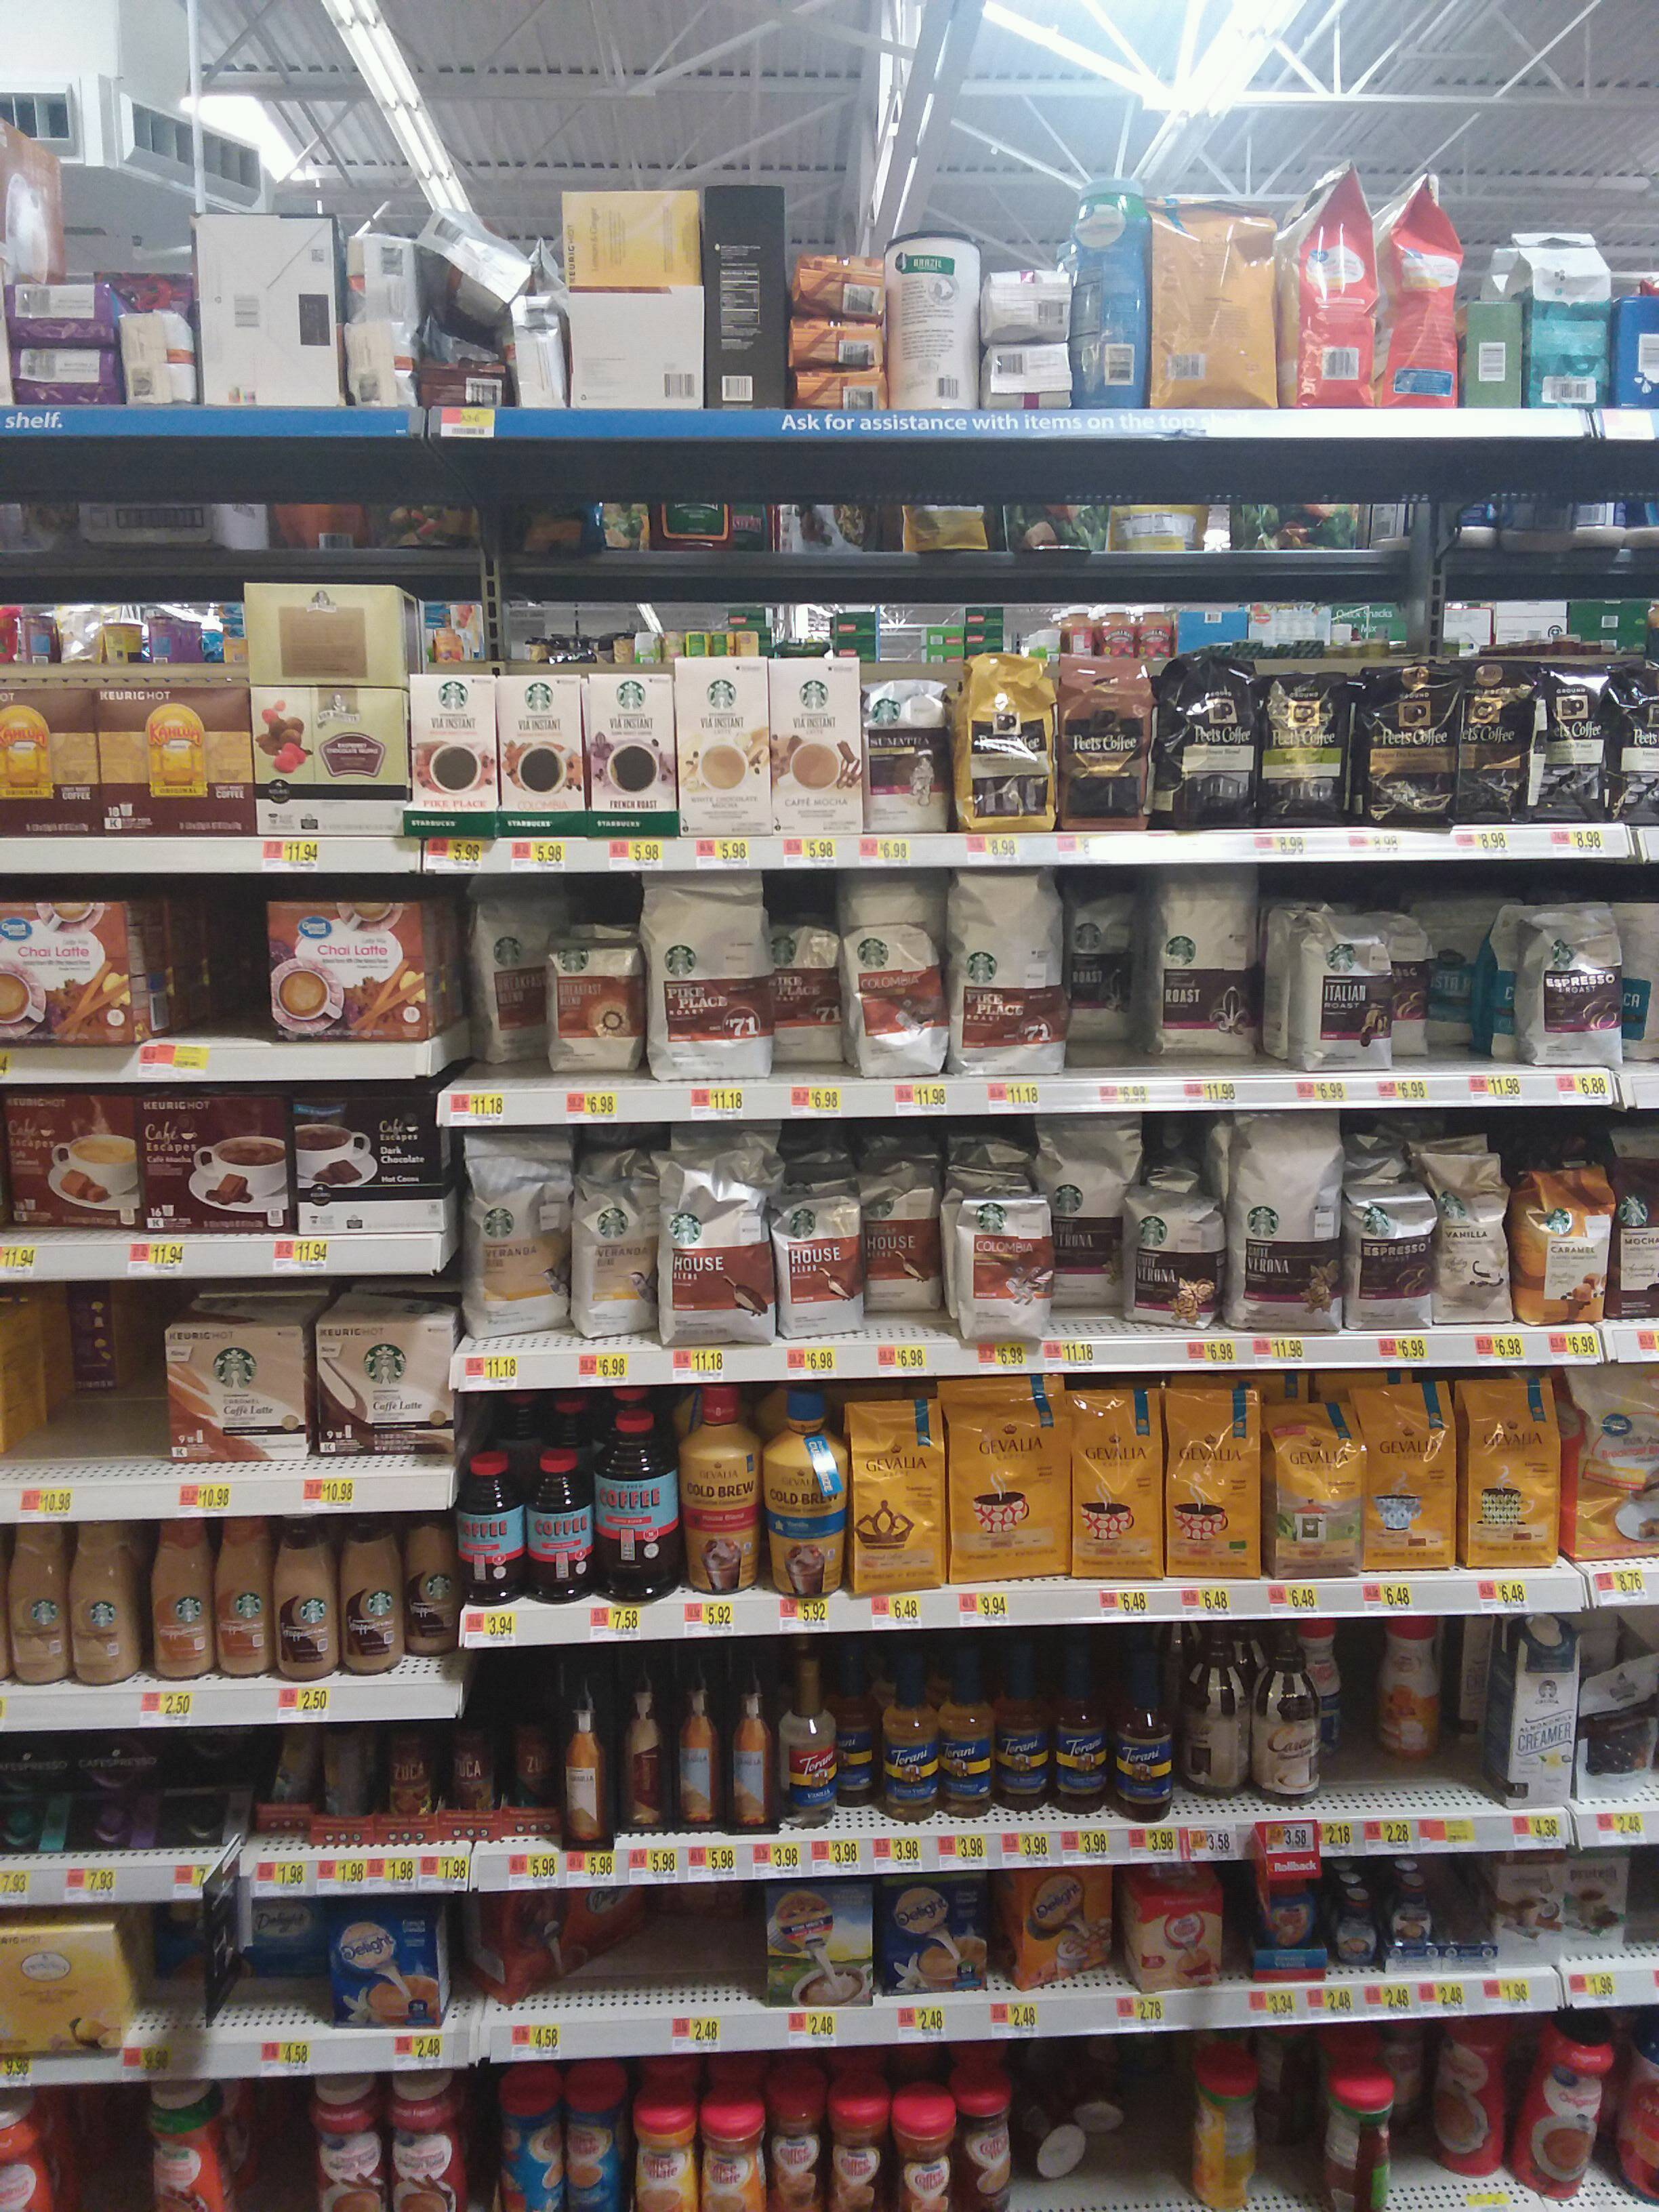Misplacement: (396, 1511, 457, 1681)
